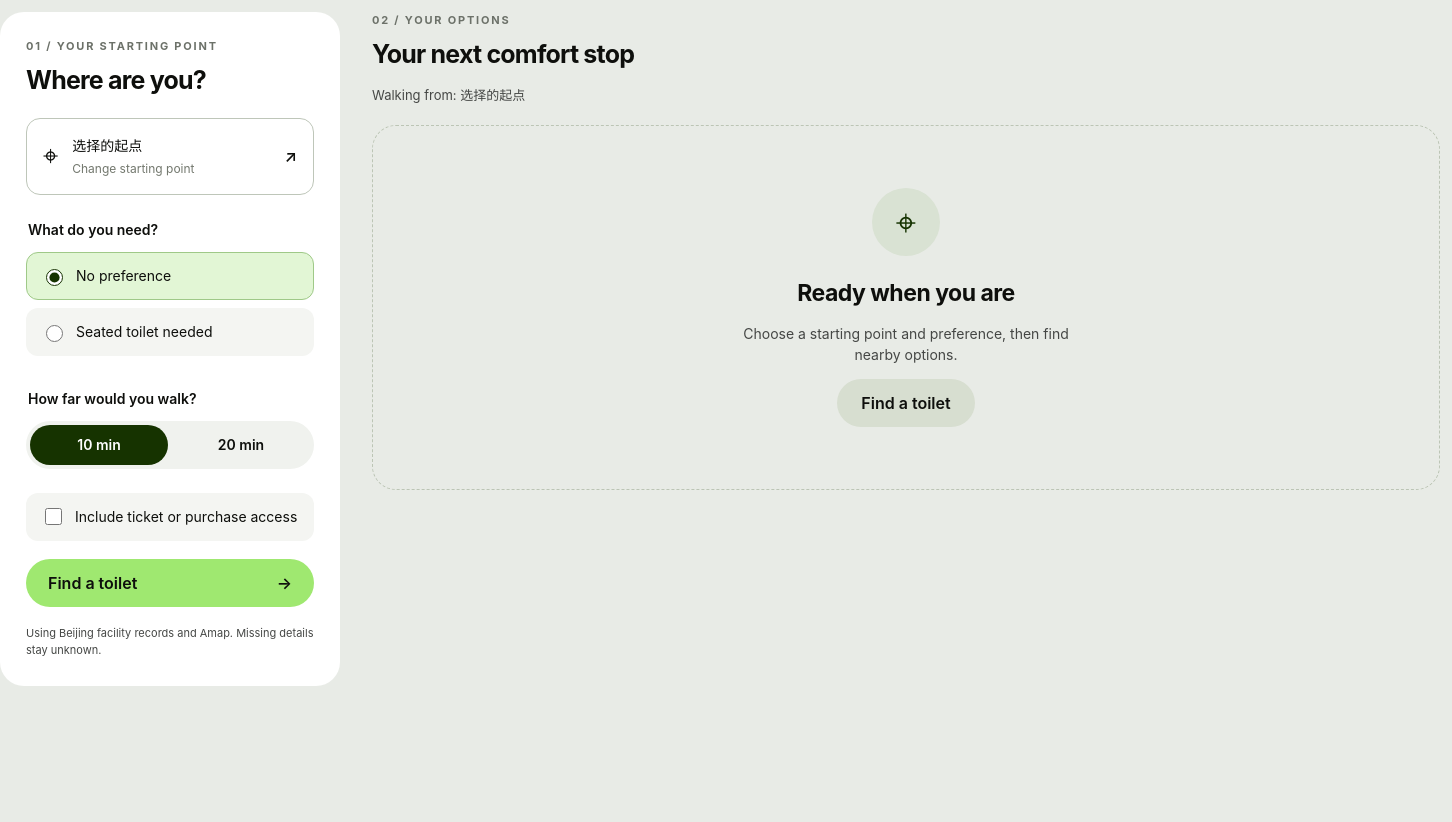
Test: offline DOM: terminal partial results stop polling and ordinary unknown-route alternatives require expansion
Step 1. Click the radio button labelled "Seated toilet needed" → [54, 333], box [46,325,63,342]
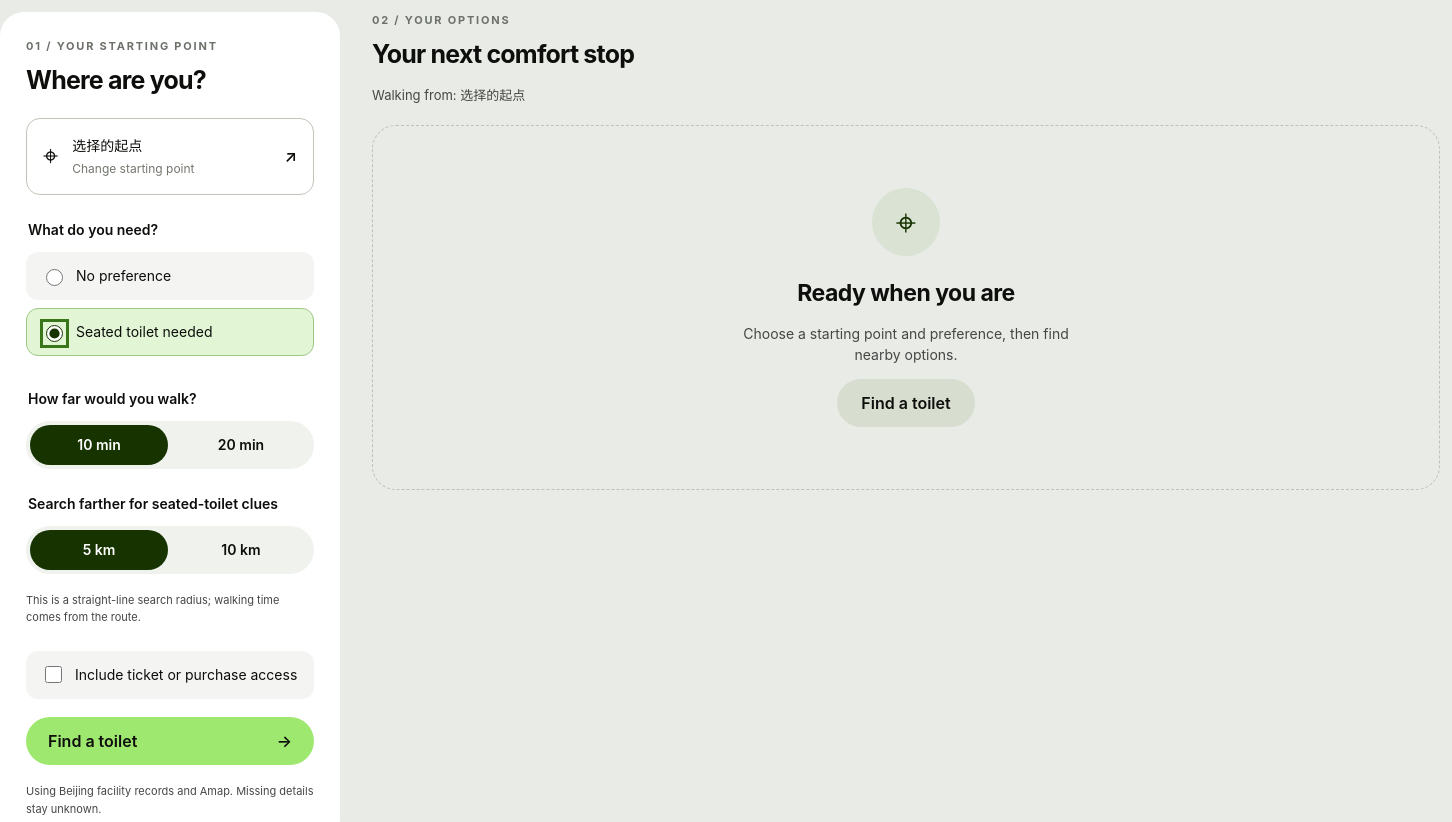
Step 2. Click the button "Find a toilet →" → [93, 741], box [26,717,314,765]
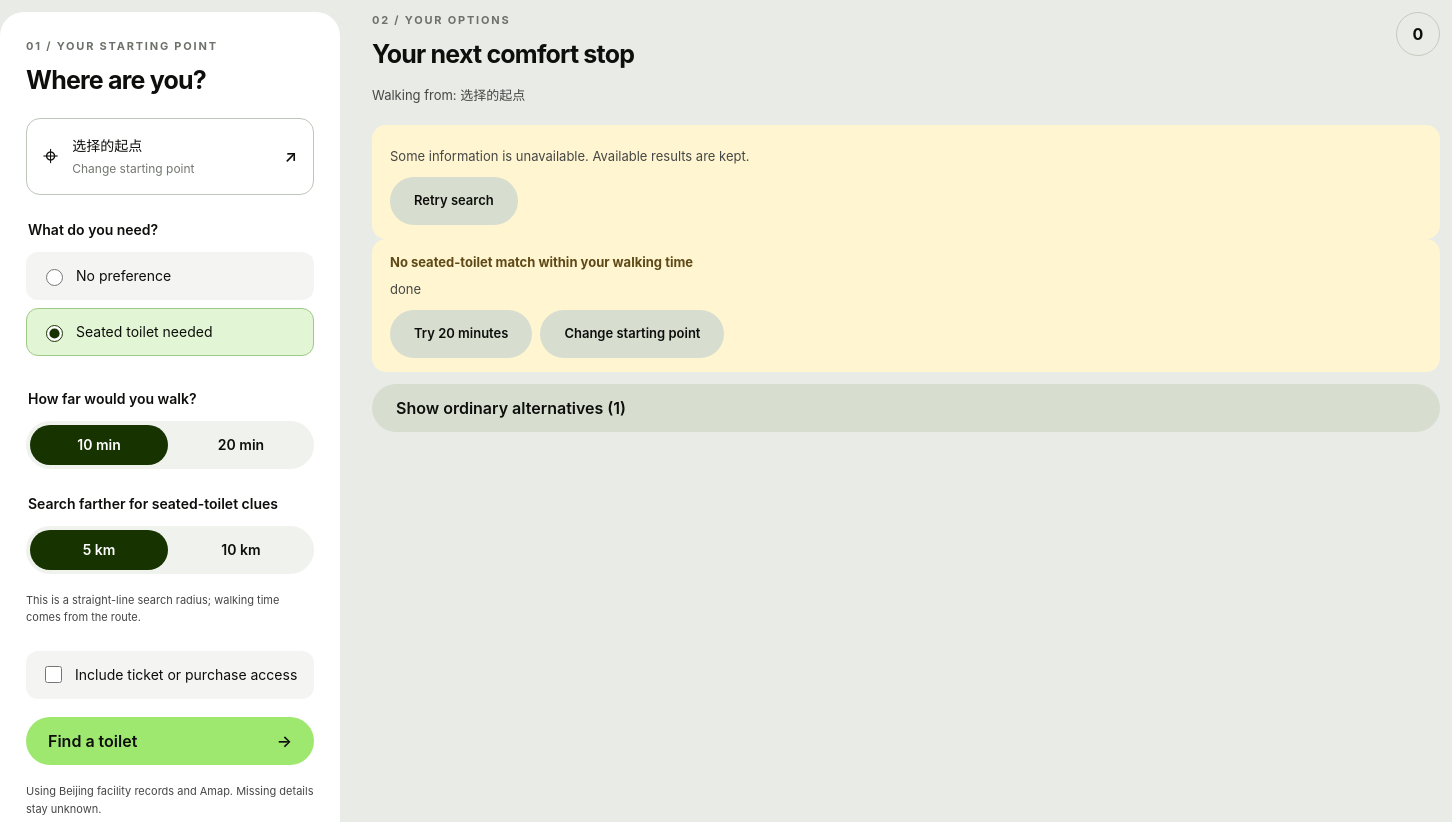
expect the text "ordinary-alternative" is not shown: met
expect the button "Show ordinary alternatives (1)" is shown: met
Step 3. Click the button "Show ordinary alternatives (1)" → [500, 408], box [372,384,1440,432]
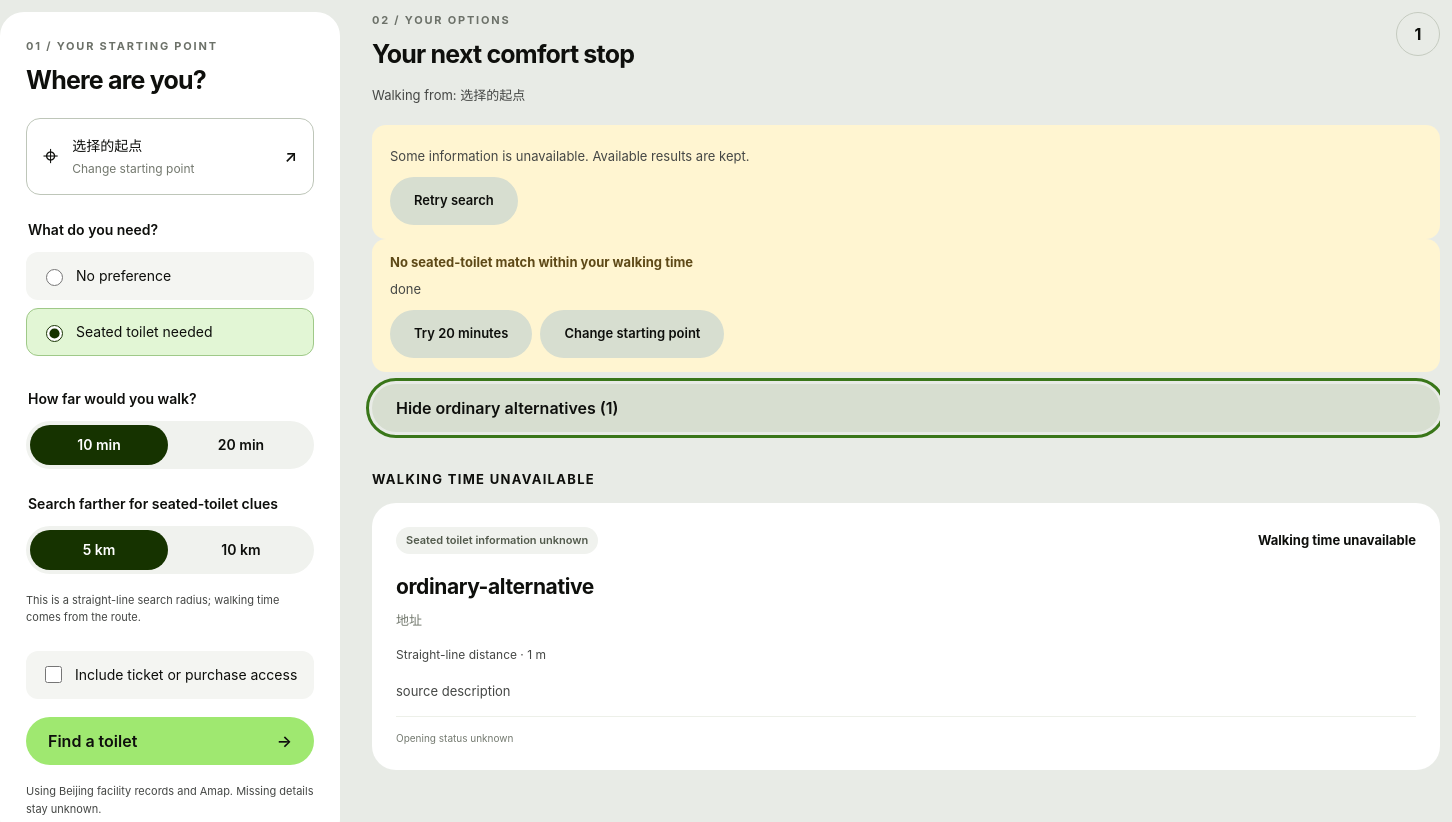
expect the heading "ordinary-alternative" is shown: met, box [396,574,594,599]
